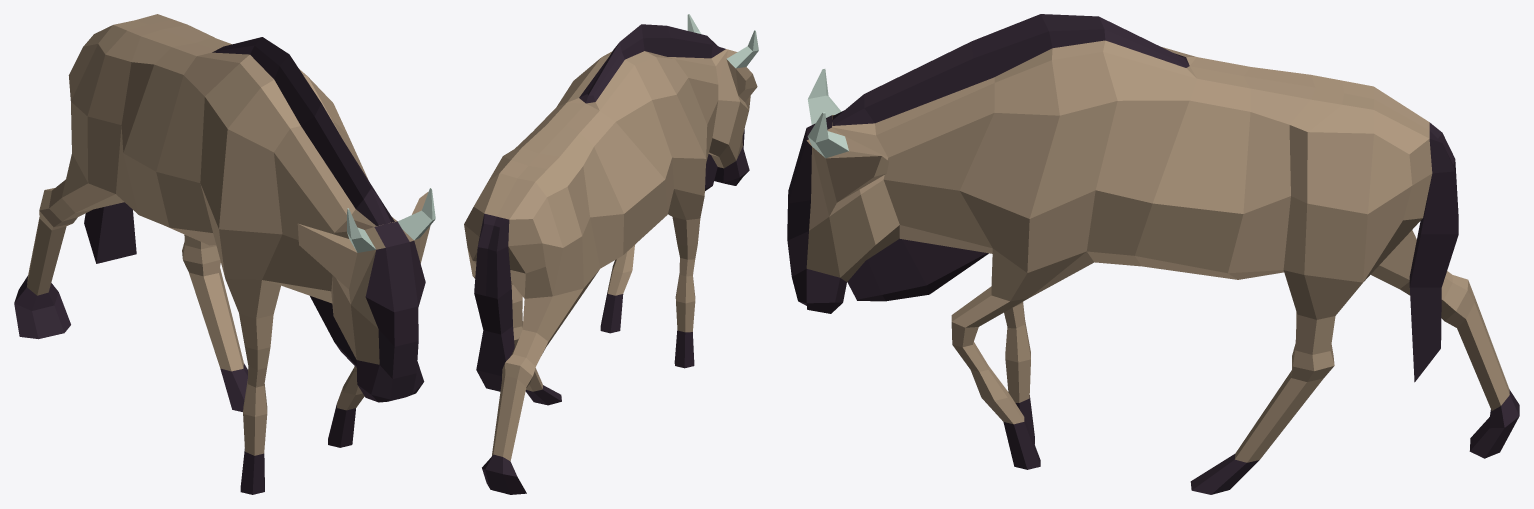
File: Gnu1.fbx
3 renders of one model, left to right at view 1: azimuth 30°, elevation 25°; view 2: azimuth 150°, elevation 25°; view 3: azimuth 270°, elevation 25°, orthographic. The views are drawn at different scales.
Visible parts, largest first — view 1: Gnu; view 2: Gnu; view 3: Gnu.
Boxes of the visible parts, box(x1,y1,x2,y2) form: Gnu: box(14, 14, 435, 494); Gnu: box(464, 14, 758, 494); Gnu: box(787, 14, 1519, 494).
Size of the model in its own units: 1.06 by 2.59 by 3.81.
